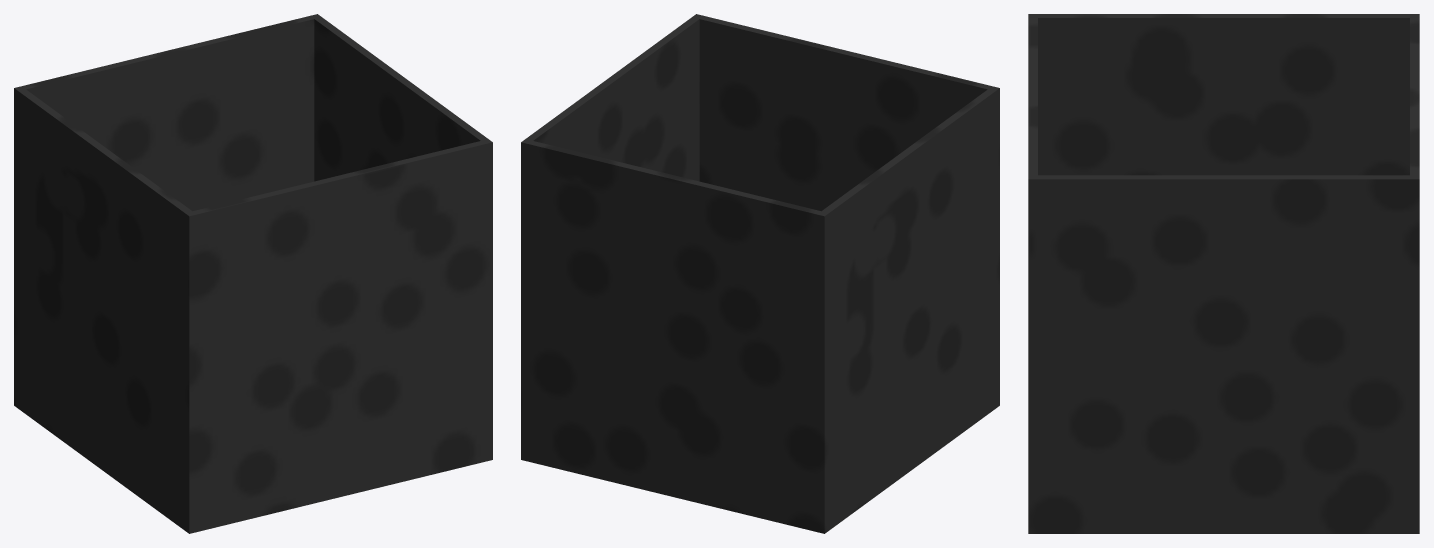
The model's file is plenum.glb.
3 renders of one model, left to right at view 1: azimuth 30°, elevation 25°; view 2: azimuth 150°, elevation 25°; view 3: azimuth 270°, elevation 25°, orthographic. The views are drawn at different scales.
Visible parts, largest first — view 1: Cube; view 2: Cube; view 3: Cube.
Part boxes in pixels (x1,y1,x2,y2): Cube: [14, 14, 492, 533]; Cube: [521, 14, 999, 533]; Cube: [1028, 14, 1419, 533].
Size of the model in its own units: 1 by 1 by 1.
Materials: 1 (1 with a texture image).
